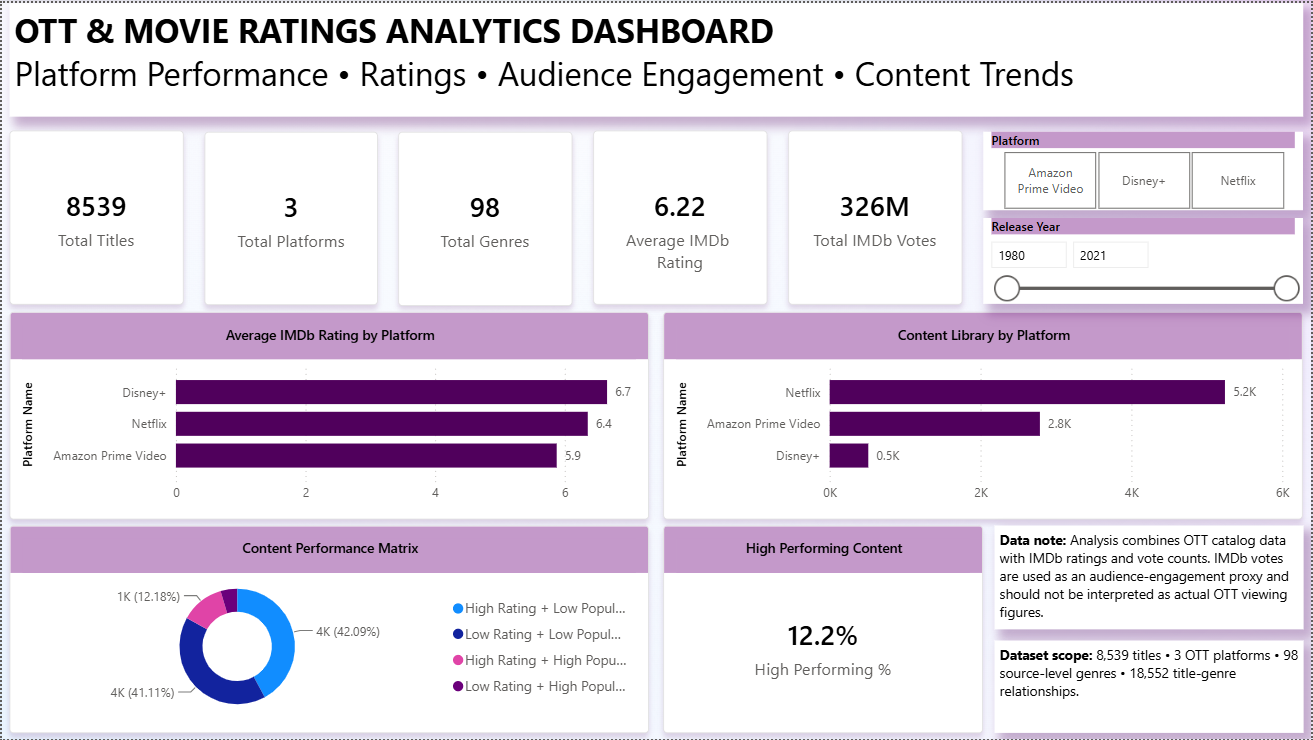

The page's visual inventory and layout, read from the dashboard file:
{"tool":"powerbi","page":{"name":"Executive Overview","canvas":[1280,720],"ordinal":0},"visuals":[{"type":"textbox","box":[7.1,0,1265.7,111.4],"z":0},{"type":"card","fields":{"Values":["ott_movie_analysis titles.Total Titles"]},"box":[7.1,125.2,170,170],"z":1000},{"type":"card","fields":{"Values":["ott_movie_analysis platforms.Total Platforms"]},"box":[198.1,126,170,170],"z":2000},{"type":"card","fields":{"Values":["ott_movie_analysis genres.Total Genres"]},"box":[387.6,126,170,170],"z":3000},{"type":"card","fields":{"Values":["ott_movie_analysis titles.Average IMDb Rating"]},"box":[578.4,124.7,170,170],"z":4000},{"type":"card","fields":{"Values":["ott_movie_analysis titles.Total IMDb Votes"]},"box":[769.2,124.7,170,170],"z":5000},{"type":"clusteredBarChart","title":"Average IMDb Rating by Platform","fields":{"Category":["ott_movie_analysis platforms.platform_name"],"Y":["ott_movie_analysis titles.Average IMDb Rating"]},"box":[7.1,301.5,625.8,203.4],"z":6000},{"type":"clusteredBarChart","title":"Content Library by Platform","fields":{"Y":["ott_movie_analysis titles.Total Titles"],"Category":["ott_movie_analysis platforms.platform_name"]},"box":[647.1,301.5,625.8,203.4],"z":7000},{"type":"donutChart","title":"Content Performance Matrix","fields":{"Category":["Performance Categories.Category"],"Y":["Performance Categories.Performance Category Count"]},"box":[7.1,510.6,625.8,203.4],"z":8000},{"type":"card","title":"High Performing Content","fields":{"Values":["ott_movie_analysis titles.High Performing %"]},"box":[646.9,511.1,313,203],"z":9000},{"type":"slicer","fields":{"Values":["ott_movie_analysis platforms.platform_name"]},"box":[959.9,126,313,77],"z":10000},{"type":"slicer","fields":{"Values":["ott_movie_analysis titles.release_year"]},"box":[959.9,210.3,313,84.4],"z":11000},{"type":"textbox","box":[970.9,511.1,302,101.5],"z":12000},{"type":"textbox","box":[970.9,623.6,302,90.5],"z":13000}]}

Visuals, with their boxes in screenshot pixels (x1, y1, x2, y2), scaled from the page's 1280x720 canvas onto the 1313x740 screenshot:
textbox: (x1=7, y1=0, x2=1306, y2=114)
card - ott_movie_analysis titles.Total Titles: (x1=7, y1=129, x2=182, y2=303)
card - ott_movie_analysis platforms.Total Platforms: (x1=203, y1=130, x2=378, y2=304)
card - ott_movie_analysis genres.Total Genres: (x1=398, y1=130, x2=572, y2=304)
card - ott_movie_analysis titles.Average IMDb Rating: (x1=593, y1=128, x2=768, y2=303)
card - ott_movie_analysis titles.Total IMDb Votes: (x1=789, y1=128, x2=963, y2=303)
"Average IMDb Rating by Platform" clusteredBarChart: (x1=7, y1=310, x2=649, y2=519)
"Content Library by Platform" clusteredBarChart: (x1=664, y1=310, x2=1306, y2=519)
"Content Performance Matrix" donutChart: (x1=7, y1=525, x2=649, y2=734)
"High Performing Content" card: (x1=664, y1=525, x2=985, y2=734)
slicer - ott_movie_analysis platforms.platform_name: (x1=985, y1=130, x2=1306, y2=209)
slicer - ott_movie_analysis titles.release_year: (x1=985, y1=216, x2=1306, y2=303)
textbox: (x1=996, y1=525, x2=1306, y2=630)
textbox: (x1=996, y1=641, x2=1306, y2=734)
